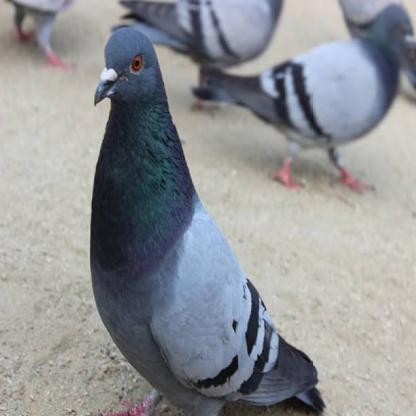Rock Pigeon: (90, 27, 305, 406), (194, 8, 409, 181), (118, 2, 277, 70)
